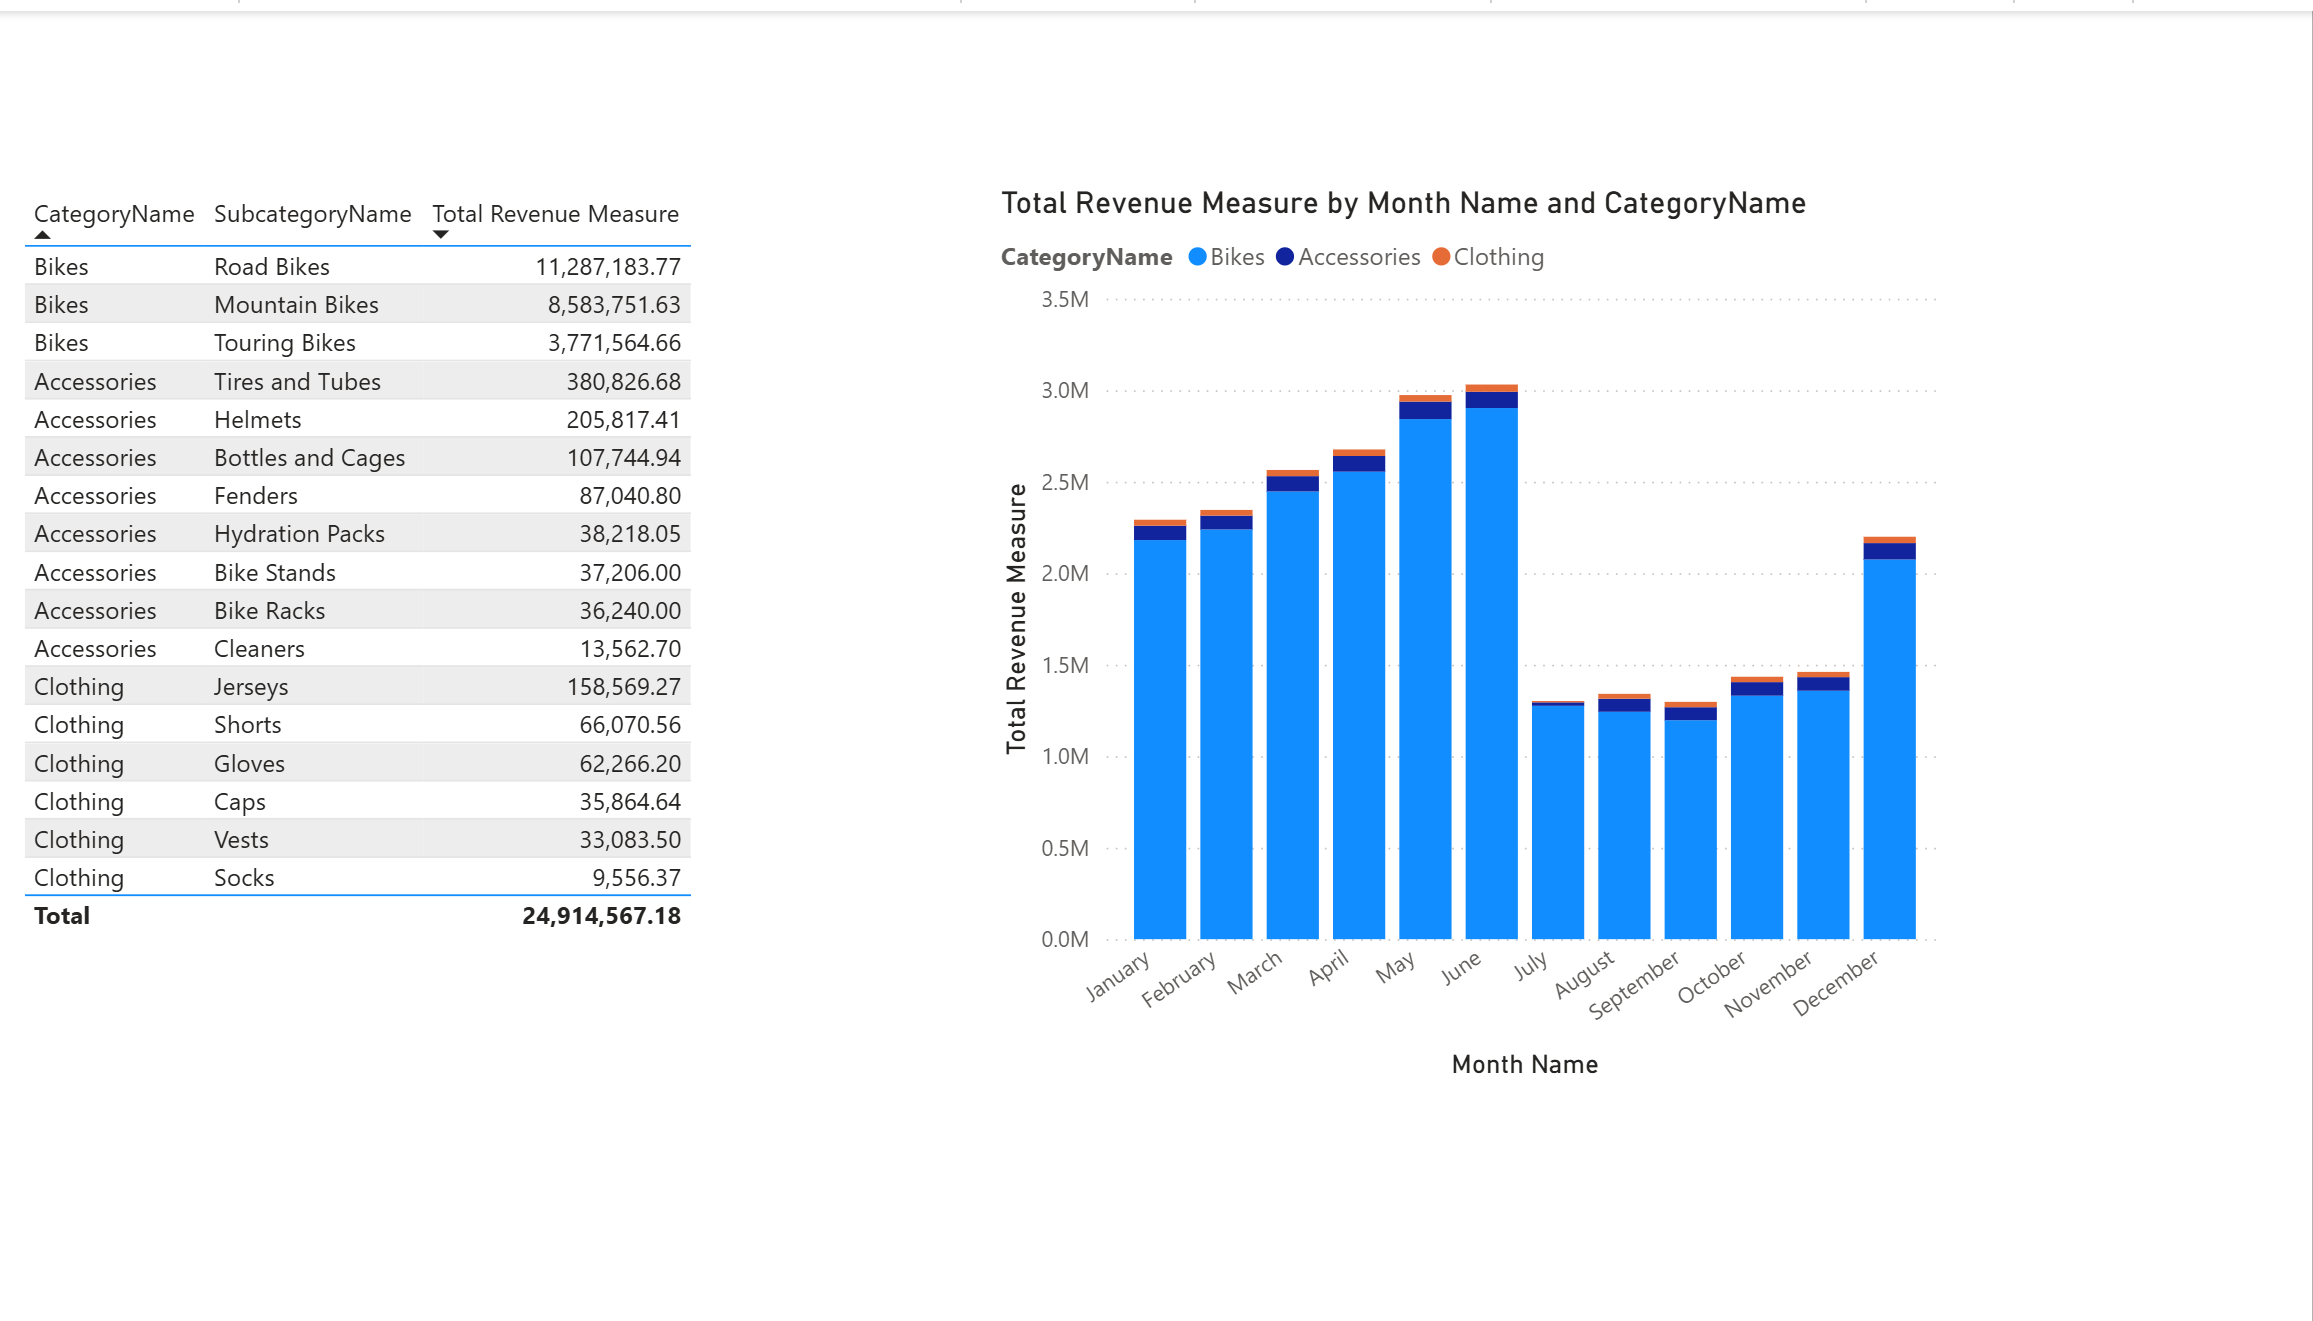

The dashboard page shown, as its layout file describes it:
{"tool":"powerbi","page":{"name":"Sorting","canvas":[1280,720],"ordinal":3},"visuals":[{"type":"tableEx","fields":{"Values":["Product_Category_Lookup.CategoryName","Product_Subcategory_Lookup.SubcategoryName","A Measure Table.Total Revenue Measure"]},"box":[16,96,528,496],"z":0},{"type":"columnChart","fields":{"Y":["A Measure Table.Total Revenue Measure"],"Series":["Product_Category_Lookup.CategoryName"],"Category":["Calendar_Lookup.Month Name"]},"box":[554,96,528,496],"z":1000}]}

Visuals, with their boxes in screenshot pixels (x1, y1, x2, y2), scaled from the page's 1280x720 canvas onto the 2313x1321 screenshot:
tableEx - Product_Category_Lookup.CategoryName x Product_Subcategory_Lookup.SubcategoryName: bbox=[29, 176, 983, 1086]
columnChart - A Measure Table.Total Revenue Measure x Product_Category_Lookup.CategoryName: bbox=[1001, 176, 1955, 1086]
